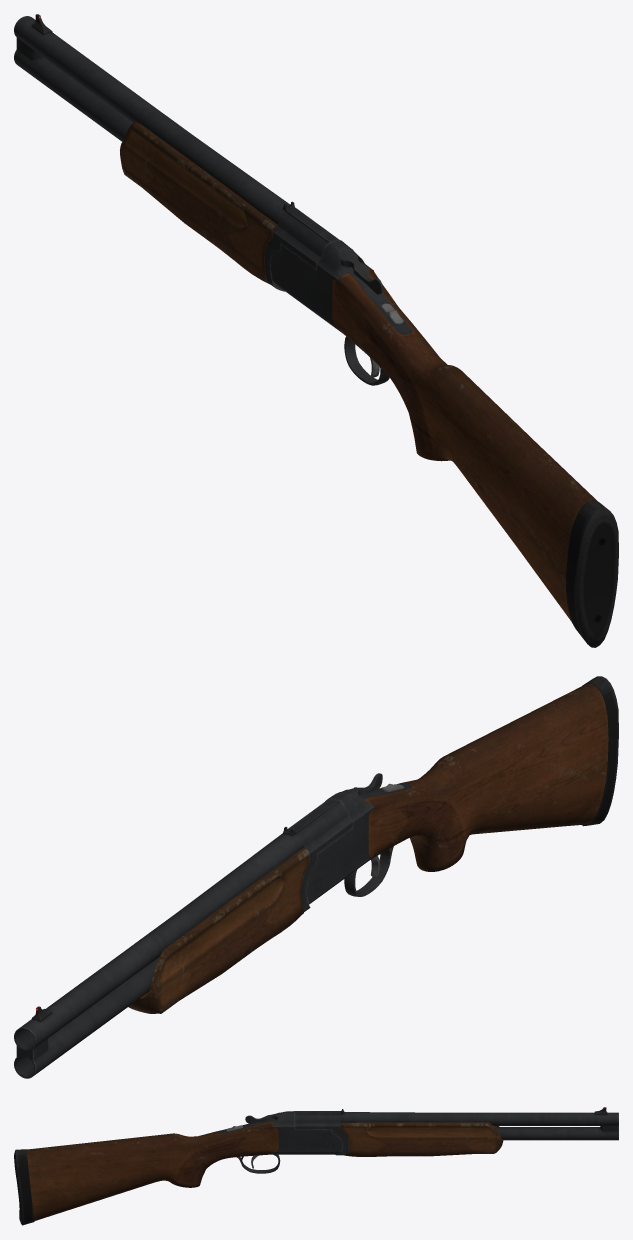
The picture shows the model from 3 angles, top to bottom: view 1: azimuth 30°, elevation 25°; view 2: azimuth 150°, elevation 25°; view 3: azimuth 270°, elevation 25°; orthographic projection. The views are drawn at different scales.
Visible parts, largest first — view 1: S686_Body; view 2: S686_Body; view 3: S686_Body.
Boxes of the visible parts, box(x1,y1,x2,y2) form: S686_Body: box(14, 14, 618, 647); S686_Body: box(14, 676, 618, 1078); S686_Body: box(14, 1107, 618, 1225).
Bounding box in the file's own units: 0.0461 × 0.2357 × 1.1.
1 material, 1 textured.
